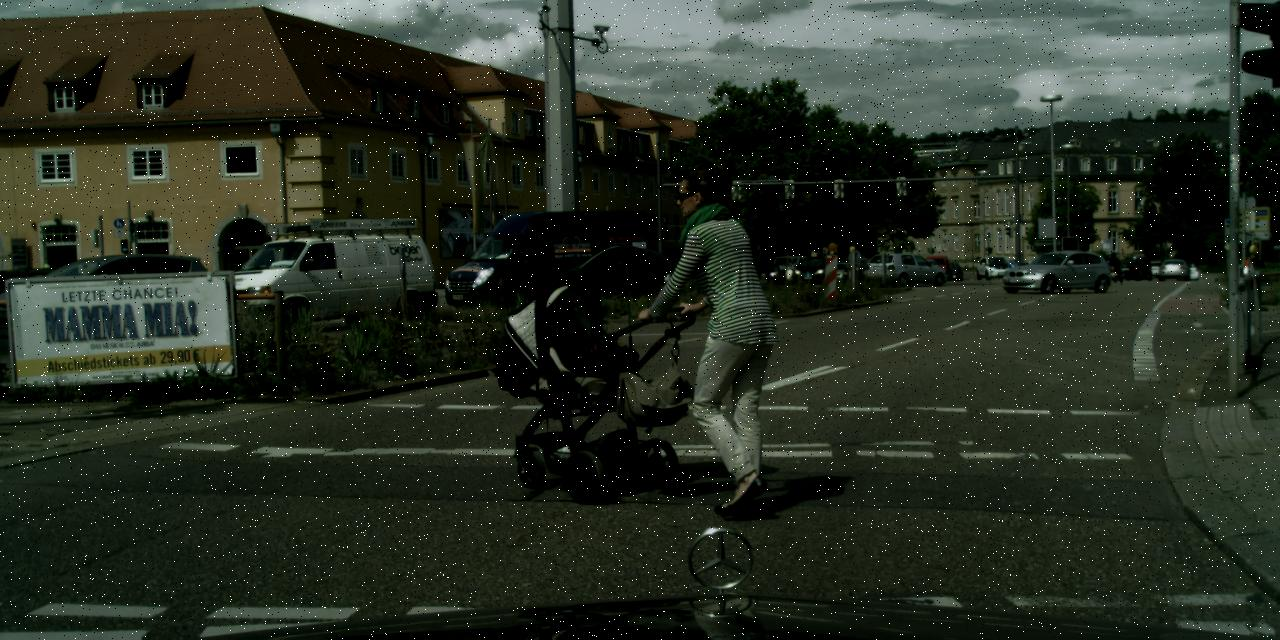ped: (650, 169, 791, 514)
